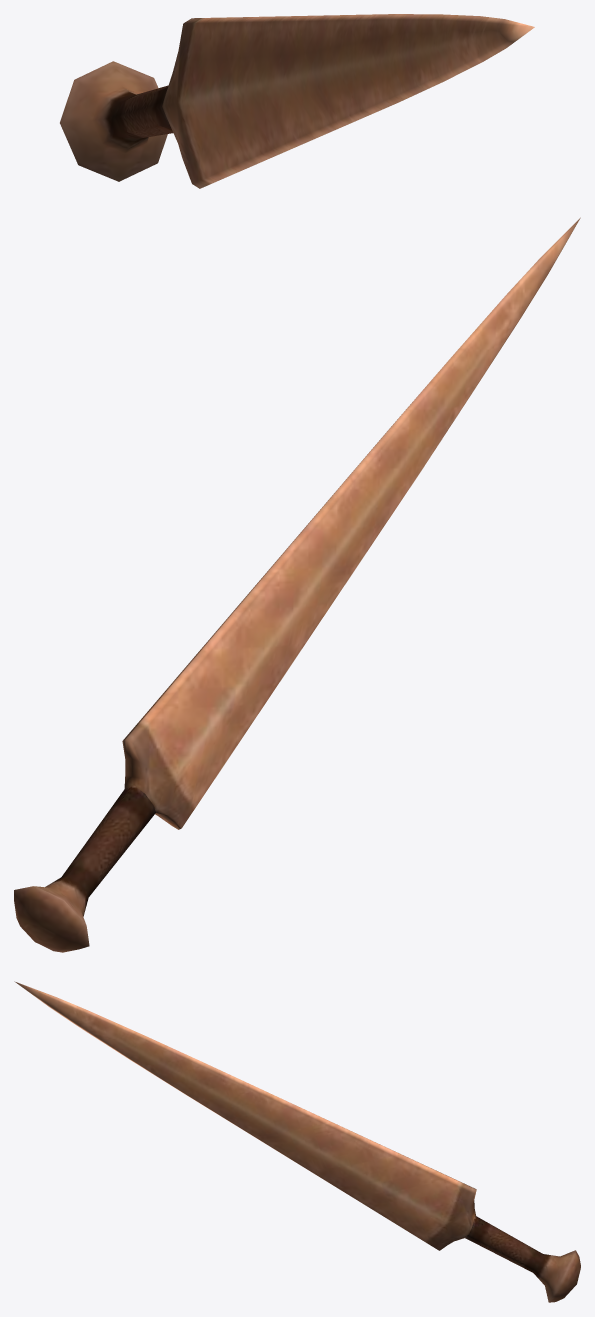
Rendered from weapon-bronzeweapons.glb.
3 renders of one model, top to bottom at view 1: azimuth 30°, elevation 25°; view 2: azimuth 150°, elevation 25°; view 3: azimuth 270°, elevation 25°, orthographic. The views are drawn at different scales.
Bounding box in the file's own units: 0.1754 × 0.5369 × 0.959.
Materials: 1 (1 with a texture image).
